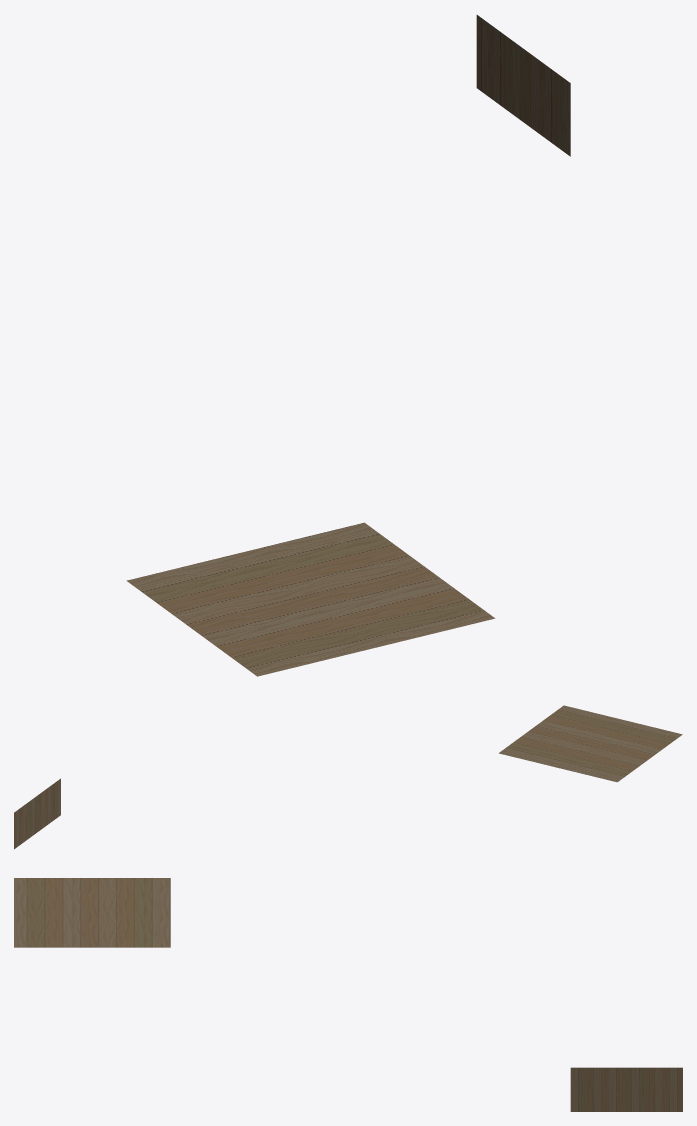
File: kd_stage_135b75_4_8_bounded.glb
3 views of the same model, one above another, from view 1: azimuth 30°, elevation 25°; view 2: azimuth 150°, elevation 25°; view 3: azimuth 270°, elevation 25° (orthographic). The views are drawn at different scales.
Parts seen in each view (by area): view 1: kd_stage_135b75_4_8_bounded; view 2: kd_stage_135b75_4_8_bounded; view 3: kd_stage_135b75_4_8_bounded.
Boxes of the visible parts, x1=… form: kd_stage_135b75_4_8_bounded: x1=126, y1=15, x2=570, y2=676; kd_stage_135b75_4_8_bounded: x1=14, y1=705, x2=682, y2=849; kd_stage_135b75_4_8_bounded: x1=14, y1=878, x2=682, y2=1111.
Bounding box in the file's own units: 3.76 × 0.34 × 4.68.
Materials: 1 (1 with a texture image).
